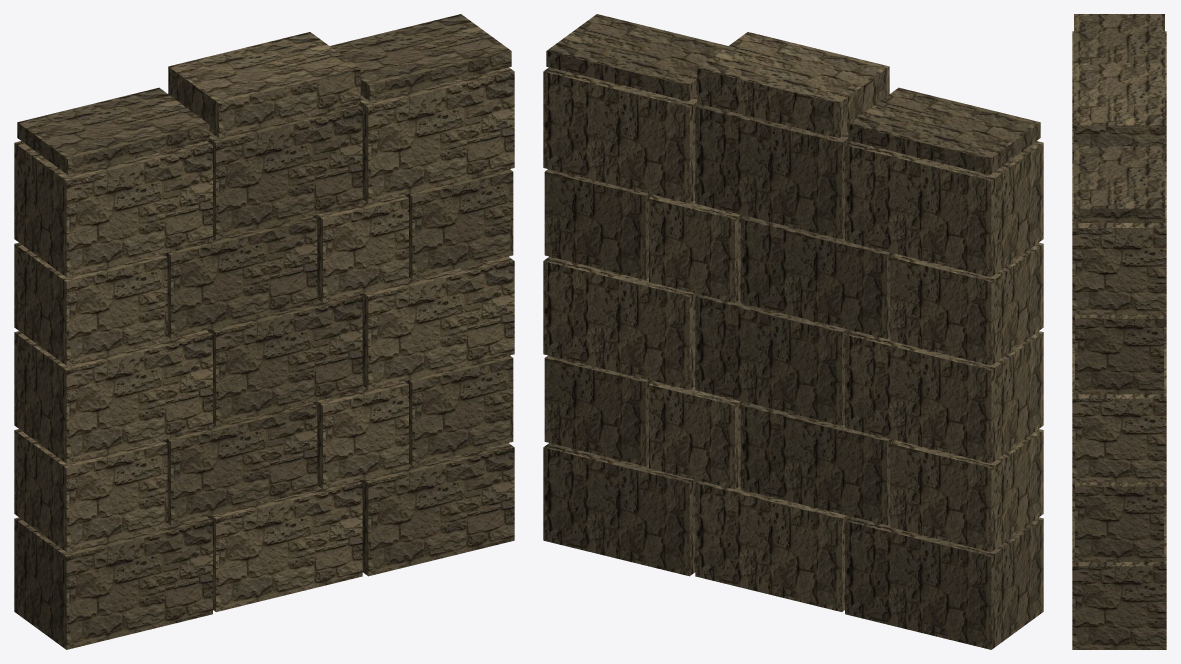
File: wall_piece_01.glb
3 views of the same model, side by side, from view 1: azimuth 30°, elevation 25°; view 2: azimuth 150°, elevation 25°; view 3: azimuth 270°, elevation 25° (orthographic). The views are drawn at different scales.
Visible parts, largest first — view 1: wall_piece_01; view 2: wall_piece_01; view 3: wall_piece_01.
Boxes of the visible parts, <box> form: wall_piece_01: <box>14,14,514,649</box>; wall_piece_01: <box>543,14,1043,649</box>; wall_piece_01: <box>1072,14,1166,649</box>.
Size of the model in its own units: 2.97 by 3.22 by 0.5998.
2 materials, 2 textured.
